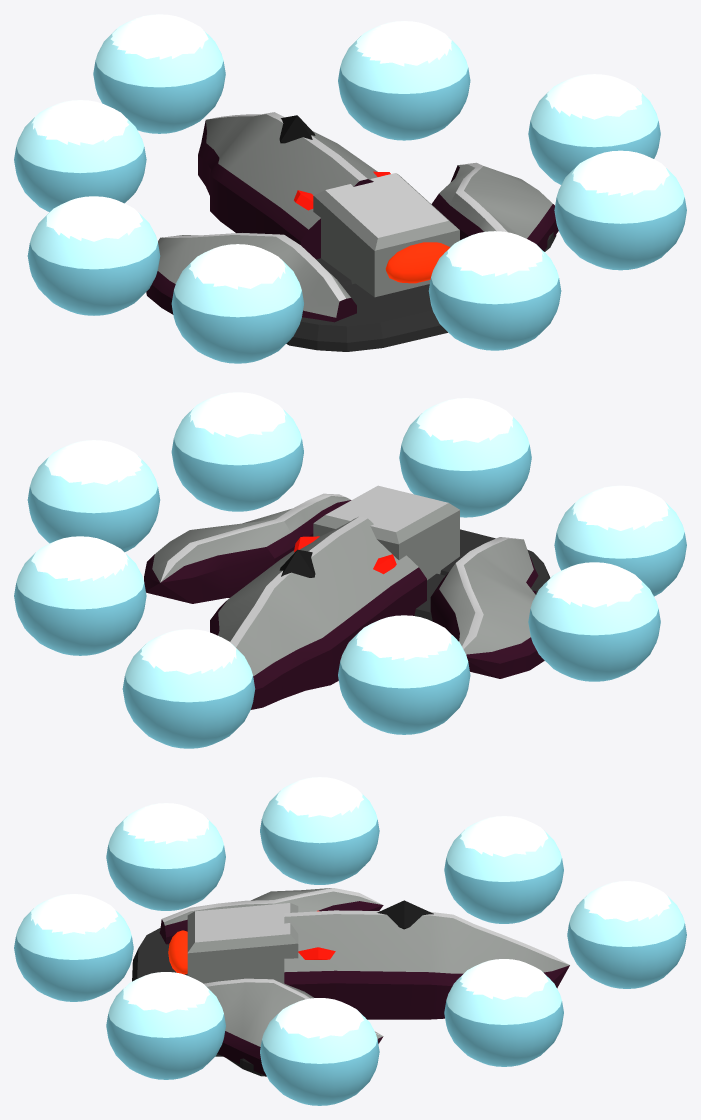
Rendered from pu_pearl_ring.glb.
3 renders of one model, top to bottom at view 1: azimuth 30°, elevation 25°; view 2: azimuth 150°, elevation 25°; view 3: azimuth 270°, elevation 25°, orthographic. The views are drawn at different scales.
Visible parts, largest first — view 1: spire, pearl7, pearl3, pearl5, pearl2, pearl6, pearl0, pearl1, block, pearl4, blade_right, blade_left (+3 smaller); view 2: spire, pearl0, pearl6, pearl2, pearl3, pearl1, pearl7, pearl4, blade_left, blade_right, pearl5, block (+2 smaller); view 3: spire, pearl0, pearl1, pearl2, pearl5, pearl6, pearl7, pearl3, pearl4, block, blade_right, blade_left (+3 smaller).
Boxes of the visible parts, x1,y1,x2,y2 form: spire: (198, 112, 377, 259); pearl7: (428, 231, 561, 350); pearl3: (27, 196, 160, 315); pearl5: (171, 244, 303, 363); pearl2: (338, 21, 470, 140); pearl6: (554, 150, 686, 270); pearl0: (93, 14, 225, 133); pearl1: (14, 100, 146, 211); block: (313, 173, 459, 297); pearl4: (528, 74, 660, 184); blade_right: (431, 162, 558, 251); blade_left: (146, 233, 356, 322); spire: (210, 516, 426, 709); pearl0: (122, 629, 255, 748); pearl6: (171, 392, 303, 511); pearl2: (14, 536, 146, 655); pearl3: (528, 562, 660, 681); pearl1: (338, 615, 470, 734); pearl7: (399, 398, 531, 517); pearl4: (27, 440, 160, 552); blade_left: (430, 537, 544, 678); blade_right: (144, 493, 351, 603); pearl5: (554, 485, 686, 596); block: (313, 485, 459, 580); spire: (284, 910, 569, 1019); pearl0: (567, 881, 686, 988); pearl1: (444, 816, 563, 923); pearl2: (444, 959, 563, 1066); pearl5: (106, 803, 225, 910); pearl6: (106, 972, 225, 1079); pearl7: (14, 894, 133, 1001); pearl3: (260, 777, 379, 884); pearl4: (260, 998, 379, 1105); block: (187, 903, 298, 983); blade_right: (204, 978, 383, 1076); blade_left: (159, 888, 383, 944).
Size of the model in its own units: 20.9 by 3.72 by 21.9.
